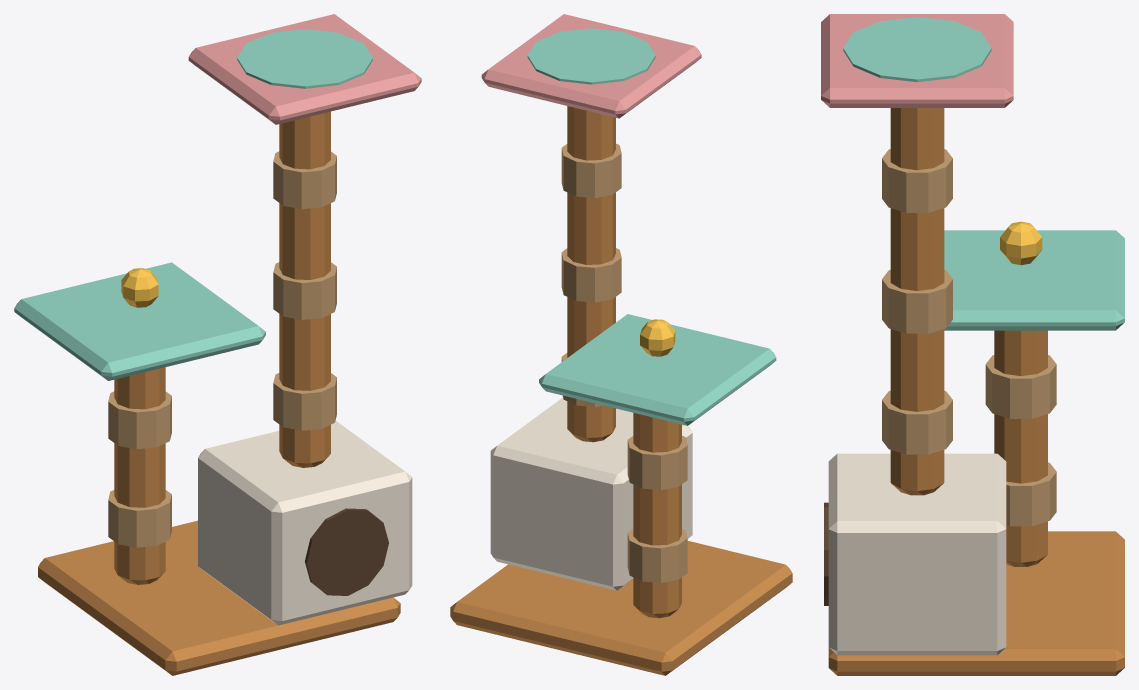
Rendered from CatCafe_Furniture_CatTree.glb.
3 views of the same model, side by side, from view 1: azimuth 30°, elevation 25°; view 2: azimuth 150°, elevation 25°; view 3: azimuth 270°, elevation 25° (orthographic). The views are drawn at different scales.
Parts seen in each view (by area): view 1: CatCafe_Furniture_CatTree; view 2: CatCafe_Furniture_CatTree; view 3: CatCafe_Furniture_CatTree.
Boxes of the visible parts, left/top/right/bottom form: CatCafe_Furniture_CatTree: left=14, top=14, right=421, bottom=675; CatCafe_Furniture_CatTree: left=450, top=14, right=792, bottom=675; CatCafe_Furniture_CatTree: left=821, top=14, right=1124, bottom=675.
Size of the model in its own units: 2.35 by 4.47 by 2.05.
1 material, 1 textured.
